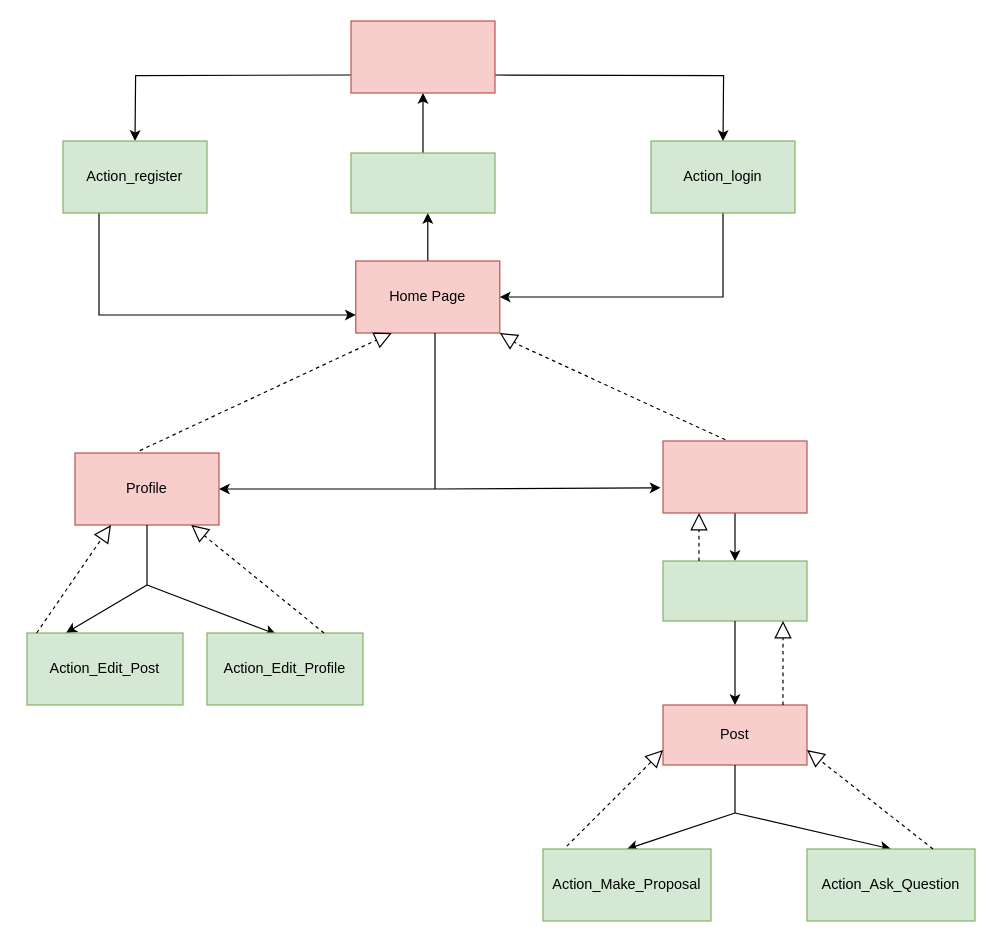
The diagram is 996 pixels wide and 942 high, and some of its shapes have lost their labels. Each missing label, with the box of its shape:
Action_logout: (350, 152, 495, 213)
Action_search: (662, 560, 807, 621)
Login Page: (350, 20, 495, 93)
Search: (662, 440, 807, 513)
